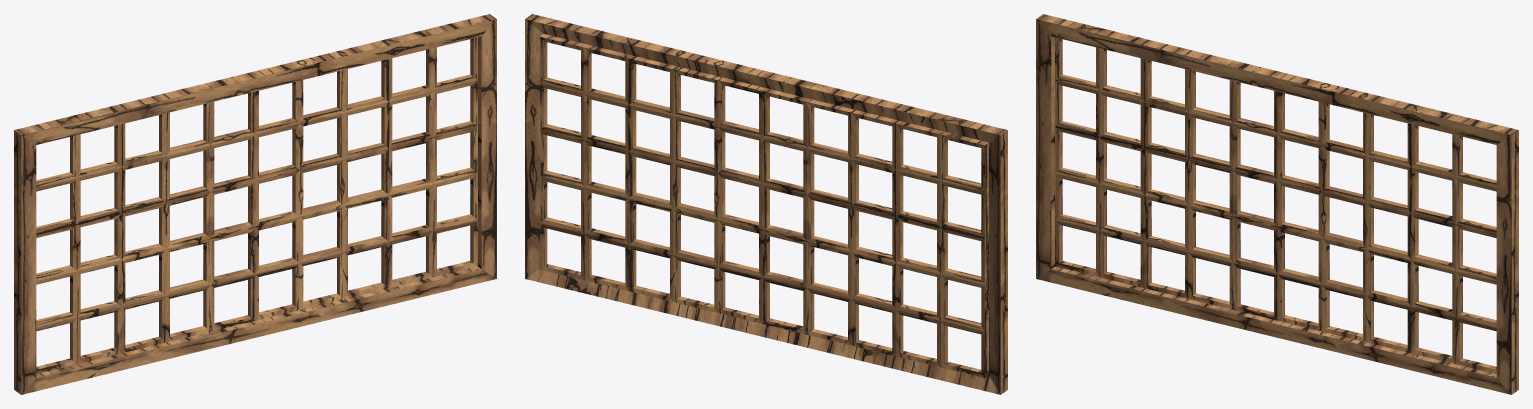
File: Large Window.glb
3 renders of one model, left to right at view 1: azimuth 30°, elevation 25°; view 2: azimuth 150°, elevation 25°; view 3: azimuth 330°, elevation 25°, orthographic.
Parts seen in each view (by area): view 1: Plane.002; view 2: Plane.002; view 3: Plane.002.
Boxes of the visible parts, left/top/right/bottom form: Plane.002: left=14, top=14, right=496, bottom=394; Plane.002: left=525, top=14, right=1007, bottom=394; Plane.002: left=1036, top=14, right=1518, bottom=394.
Size of the model in its own units: 4.2 by 2.19 by 0.1164.
Materials: 1 (1 with a texture image).
